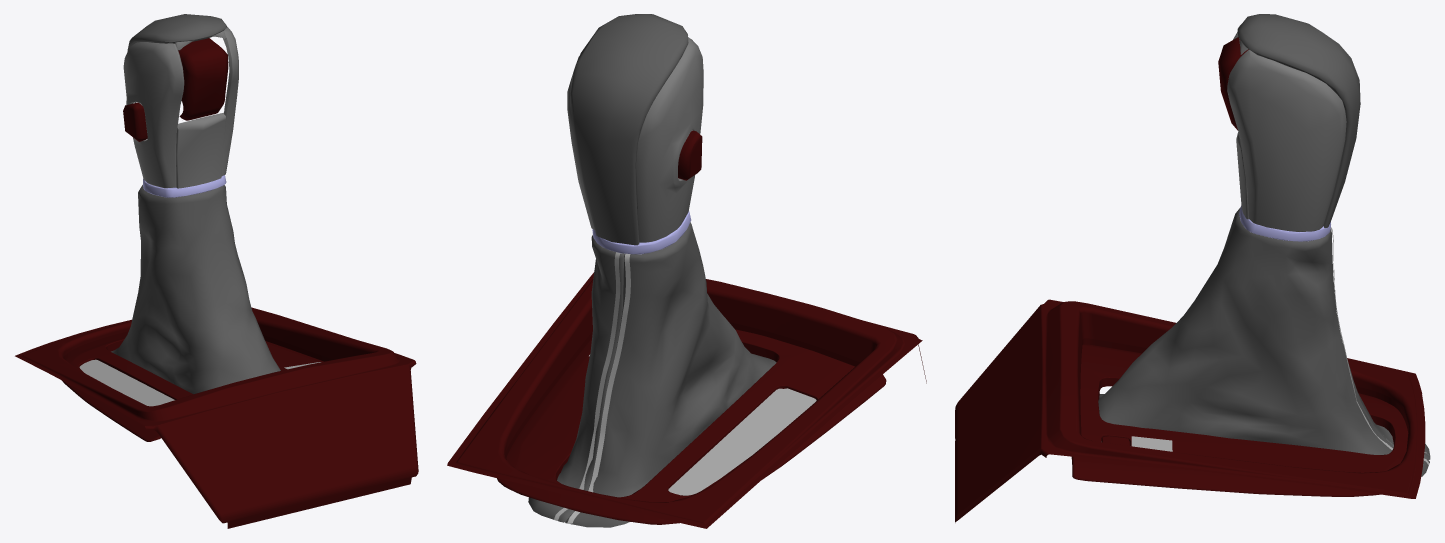
File: TOYOTA_URBAN_CRUISER_PREM_MID_HIGH_IN_CENTERCONSOLE_AT_GEAR_MESH.glb
3 views of the same model, side by side, from view 1: azimuth 30°, elevation 25°; view 2: azimuth 150°, elevation 25°; view 3: azimuth 270°, elevation 25° (orthographic). The views are drawn at different scales.
Visible parts, largest first — view 1: TOYOTA_URBAN_CRUISER_PREM_MID_HIGH_IN_CENTERCONSOLE_AT_GEAR_; view 2: TOYOTA_URBAN_CRUISER_PREM_MID_HIGH_IN_CENTERCONSOLE_AT_GEAR_; view 3: TOYOTA_URBAN_CRUISER_PREM_MID_HIGH_IN_CENTERCONSOLE_AT_GEAR_.
Boxes of the visible parts, bbox=[...] form: TOYOTA_URBAN_CRUISER_PREM_MID_HIGH_IN_CENTERCONSOLE_AT_GEAR_: bbox=[15, 14, 418, 528]; TOYOTA_URBAN_CRUISER_PREM_MID_HIGH_IN_CENTERCONSOLE_AT_GEAR_: bbox=[447, 14, 926, 528]; TOYOTA_URBAN_CRUISER_PREM_MID_HIGH_IN_CENTERCONSOLE_AT_GEAR_: bbox=[955, 14, 1430, 522].
Size of the model in its own units: 0.1445 by 0.1983 by 0.1873.
